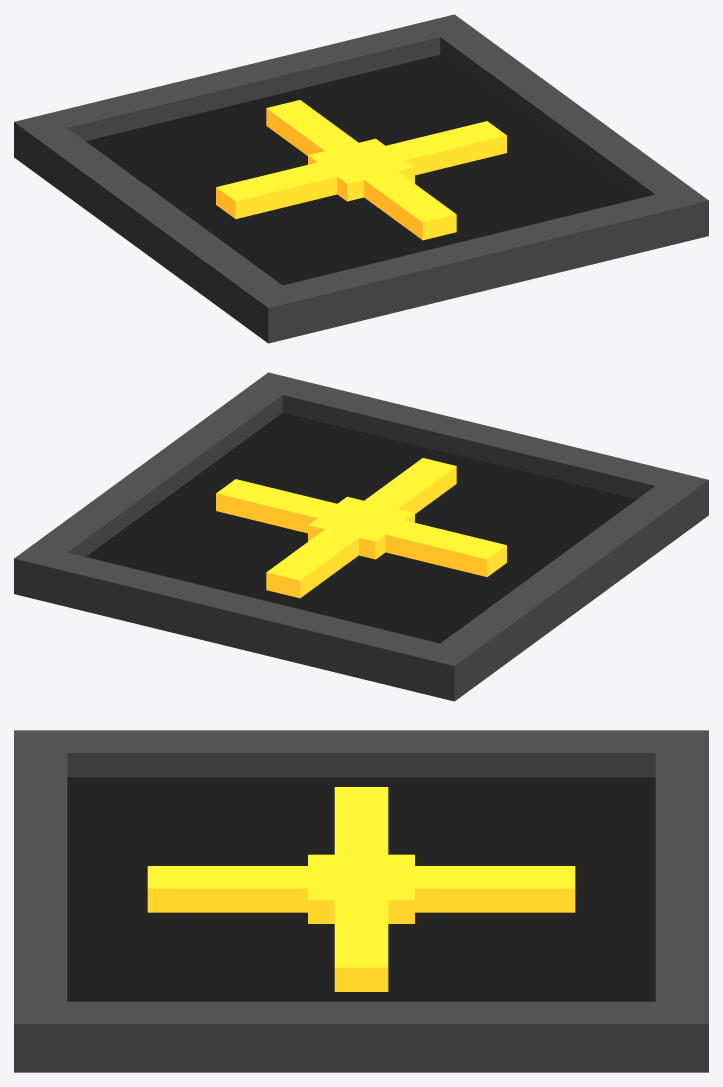
File: trap_LARGE_DOT_ORANGE.glb
3 renders of one model, top to bottom at view 1: azimuth 30°, elevation 25°; view 2: azimuth 150°, elevation 25°; view 3: azimuth 270°, elevation 25°, orthographic. The views are drawn at different scales.
Parts seen in each view (by area): view 1: item_TRAP_LARGE_DOT_ORANGE; view 2: item_TRAP_LARGE_DOT_ORANGE; view 3: item_TRAP_LARGE_DOT_ORANGE.
Part boxes in pixels (box(x1,y1,x2,y2)): item_TRAP_LARGE_DOT_ORANGE: box(14, 14, 708, 343); item_TRAP_LARGE_DOT_ORANGE: box(14, 372, 708, 701); item_TRAP_LARGE_DOT_ORANGE: box(14, 730, 708, 1072).
Bounding box in the file's own units: 0.5909 × 0.0455 × 0.5909.
Materials: 1 (1 with a texture image).
